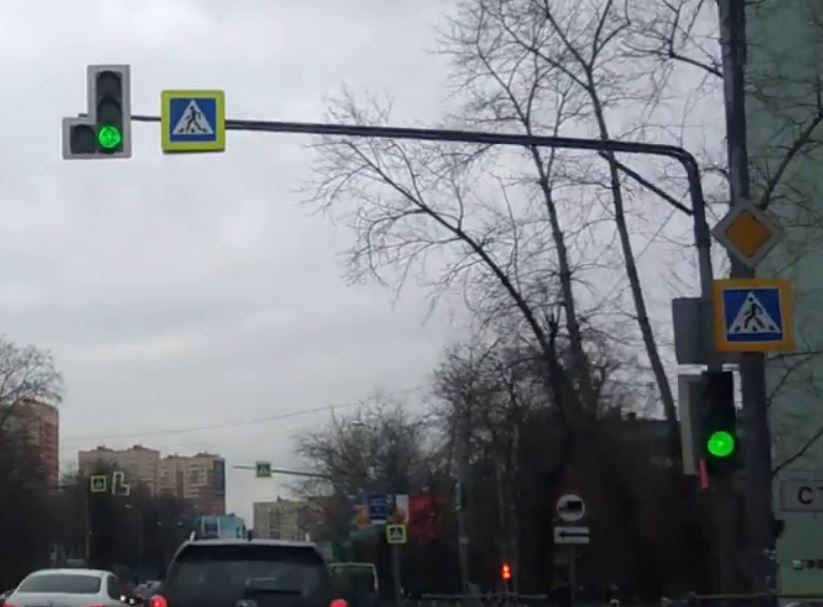Yaya Gecidi: (718, 289, 788, 345), (169, 97, 214, 144)
